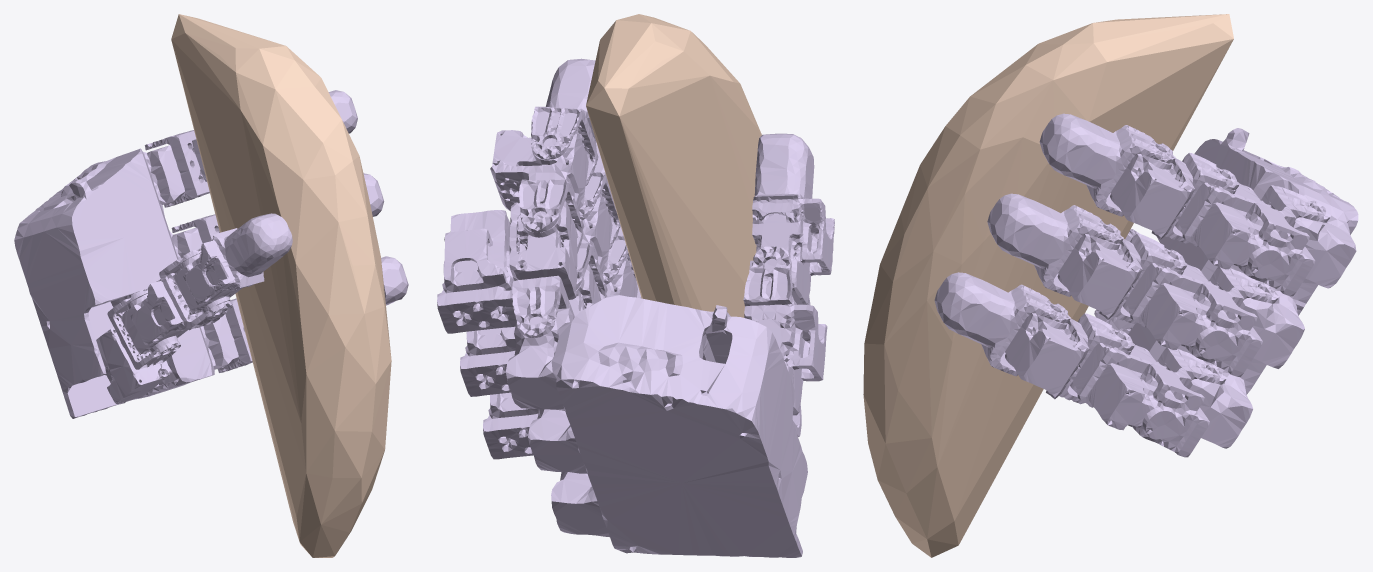
3 renders of one model, left to right at view 1: azimuth 30°, elevation 25°; view 2: azimuth 150°, elevation 25°; view 3: azimuth 270°, elevation 25°, orthographic. The views are drawn at different scales.
Visible parts, largest first — view 1: world, LEAP_hand; view 2: LEAP_hand, world; view 3: LEAP_hand, world.
Part boxes in pixels (x1=…): world: x1=171, y1=14, x2=391, y2=557; LEAP_hand: x1=14, y1=90, x2=408, y2=418; LEAP_hand: x1=437, y1=58, x2=834, y2=557; world: x1=586, y1=14, x2=761, y2=317; LEAP_hand: x1=934, y1=113, x2=1358, y2=457; world: x1=863, y1=14, x2=1233, y2=557.
Size of the model in its own units: 0.1625 by 0.2642 by 0.2224.
